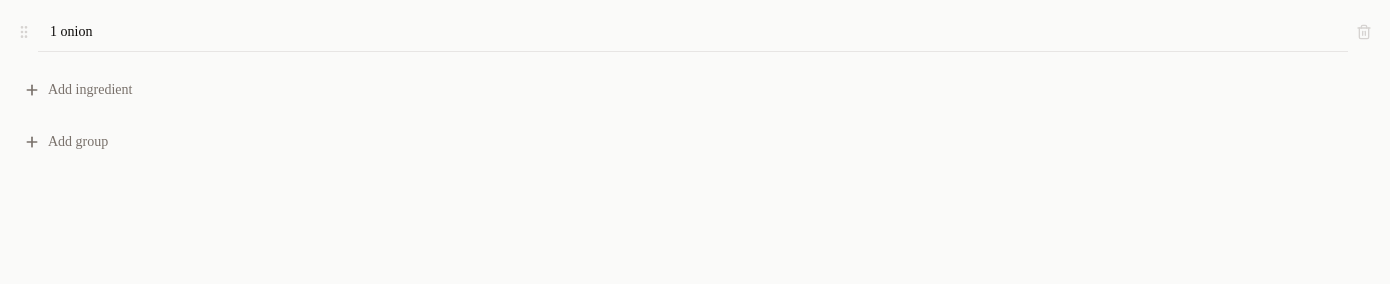
IngredientsEditor › adds a group
What coordinates should you click on to do the following:
click the button "Add group"
I would click on:
 (78, 142)
Its box is [12,120,1378,164].
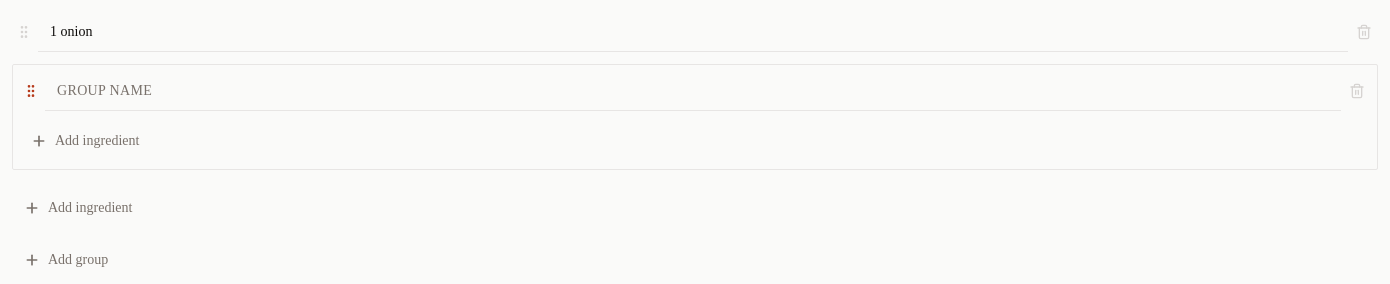
Expected: the field labelled "Group name" is shown, [45,71,1341,111]
